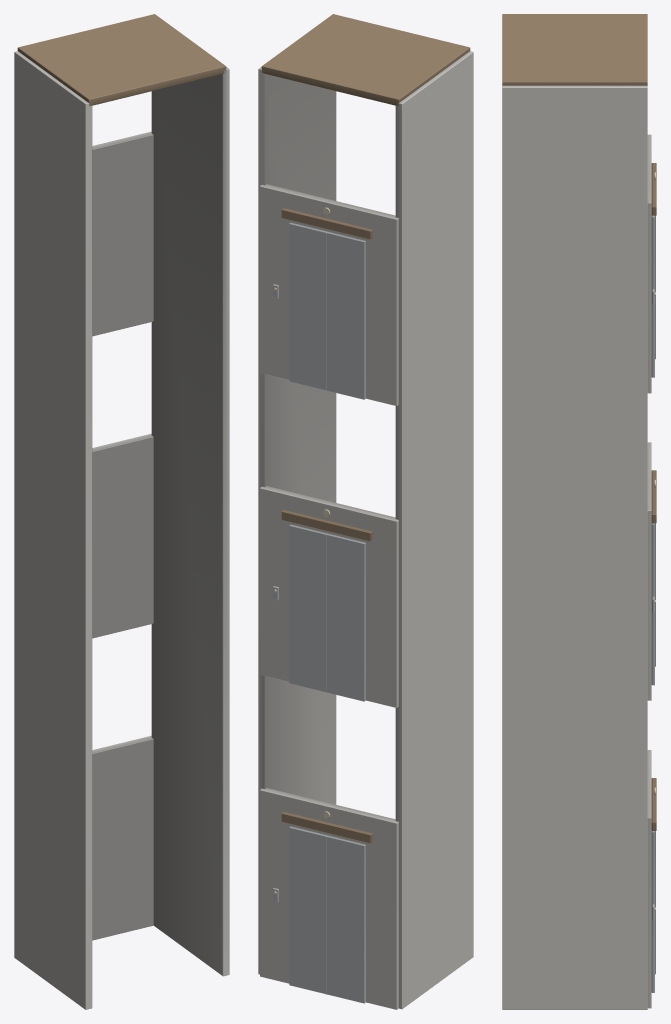
File: petshop_elevator3.glb
3 renders of one model, left to right at view 1: azimuth 30°, elevation 25°; view 2: azimuth 150°, elevation 25°; view 3: azimuth 270°, elevation 25°, orthographic.
Size of the model in its own units: 2.1 by 12.65 by 1.91.
